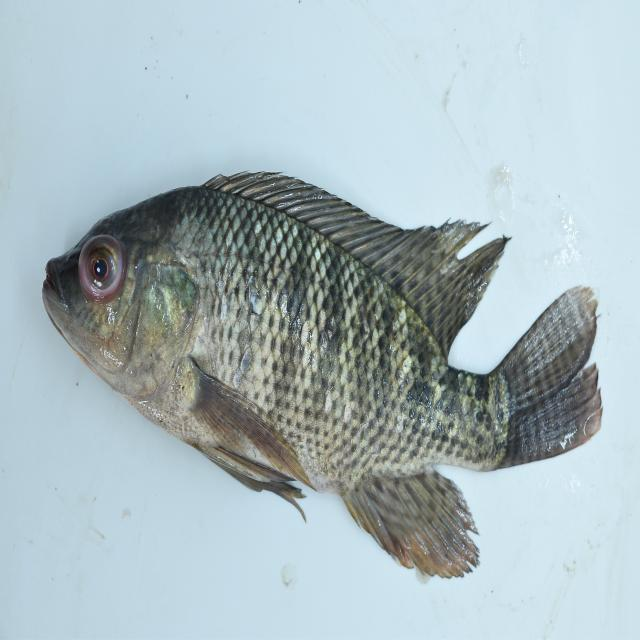Columnaris Disease: (31, 177, 614, 593)
